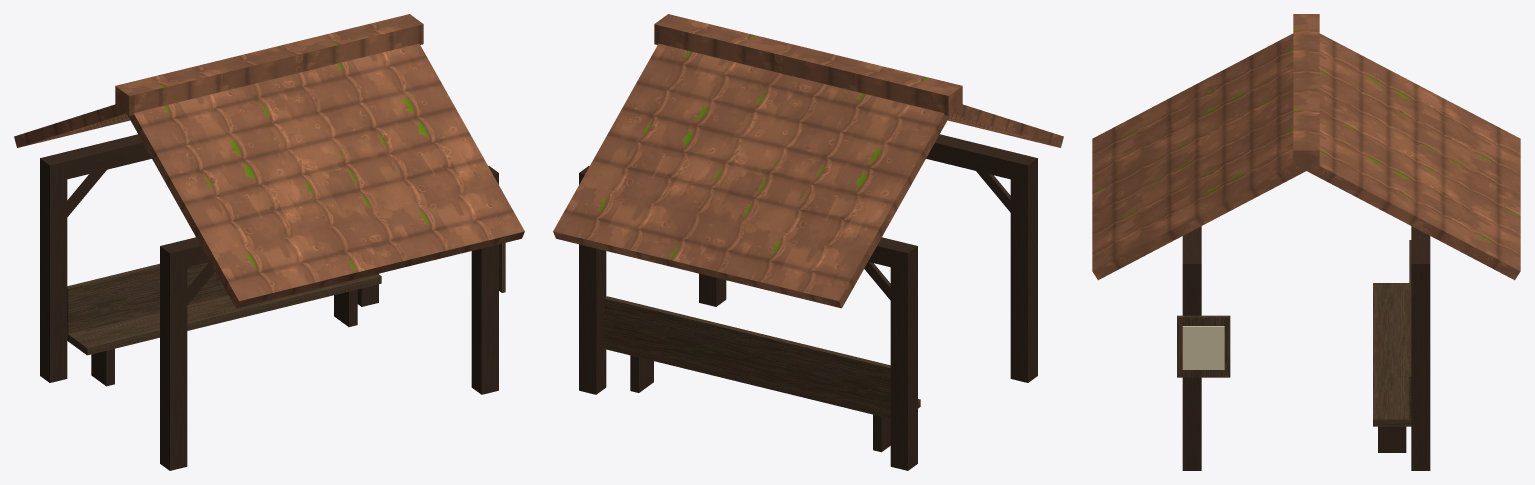
Rendered from trail_shelter.glb.
The picture shows the model from 3 angles, left to right: view 1: azimuth 30°, elevation 25°; view 2: azimuth 150°, elevation 25°; view 3: azimuth 270°, elevation 25°; orthographic projection. The views are drawn at different scales.
Visible parts, largest first — view 1: trail_shelter; view 2: trail_shelter; view 3: trail_shelter.
Boxes of the visible parts, x1=… form: trail_shelter: x1=14, y1=14, x2=524, y2=470; trail_shelter: x1=553, y1=14, x2=1063, y2=470; trail_shelter: x1=1092, y1=14, x2=1520, y2=470.
Size of the model in its own units: 3.86 by 3.62 by 4.5.
Materials: 3 (2 with a texture image).
